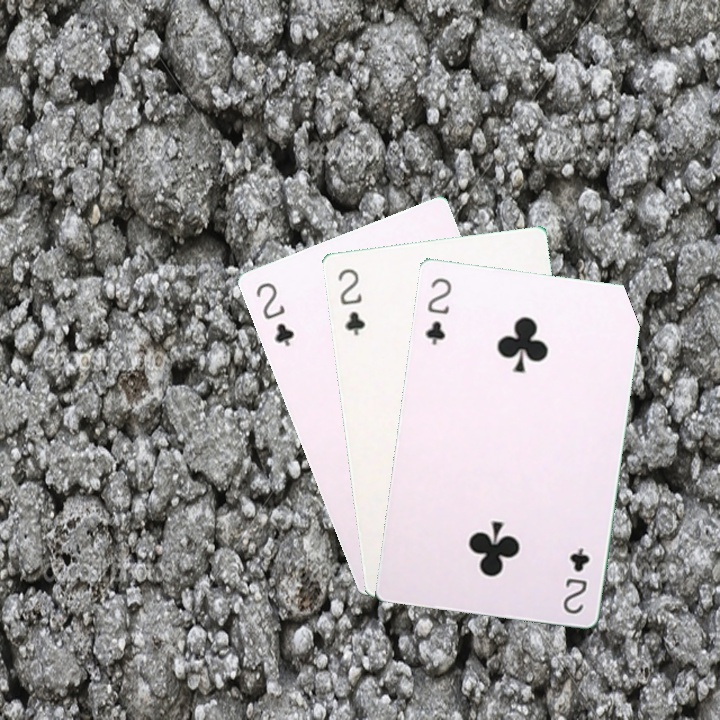2c: (252, 278, 297, 350), (334, 264, 368, 339), (421, 274, 454, 348), (559, 544, 592, 617)
